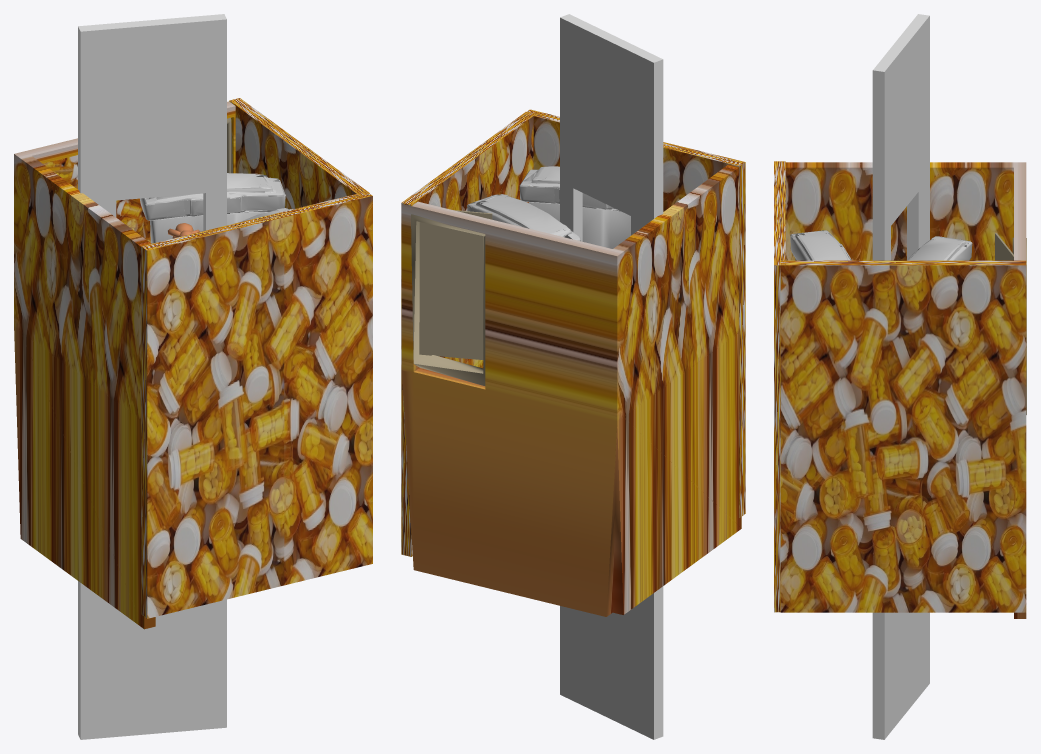
File: Level5.fbx
3 renders of one model, left to right at view 1: azimuth 30°, elevation 25°; view 2: azimuth 150°, elevation 25°; view 3: azimuth 270°, elevation 25°, orthographic. The views are drawn at different scales.
Visible parts, largest first — view 1: Cube.034, Cube.002, Cube, Rubbish Bin V2_Material.034_0.001; view 2: Cube.002, Cube, Cube.034, Cube.022, Rubbish Bin V2_Material.034_0.002, Cube.003, Rubbish Bin V2_Material.034_0.001; view 3: Cube.034, Cube, Cube.002, Rubbish Bin V2_Material.034_0.002, Rubbish Bin V2_Material.034_0.001.
Part boxes in pixels (<box>): Cube.034: <box>141,98,372,618</box>; Cube.002: <box>14,101,235,629</box>; Cube: <box>78,14,226,739</box>; Rubbish Bin V2_Material.034_0.001: <box>140,173,285,243</box>; Cube.002: <box>401,164,741,616</box>; Cube: <box>560,14,663,739</box>; Cube.034: <box>401,109,745,556</box>; Cube.022: <box>419,210,492,359</box>; Rubbish Bin V2_Material.034_0.002: <box>519,166,630,248</box>; Cube.003: <box>411,214,485,385</box>; Rubbish Bin V2_Material.034_0.001: <box>467,194,580,241</box>; Cube.034: <box>774,161,1026,612</box>; Cube: <box>872,14,929,739</box>; Cube.002: <box>785,162,1026,618</box>; Rubbish Bin V2_Material.034_0.002: <box>790,230,851,260</box>; Rubbish Bin V2_Material.034_0.001: <box>907,236,972,260</box>.
Bounding box in the file's own units: 1326 × 3966 × 1360.
